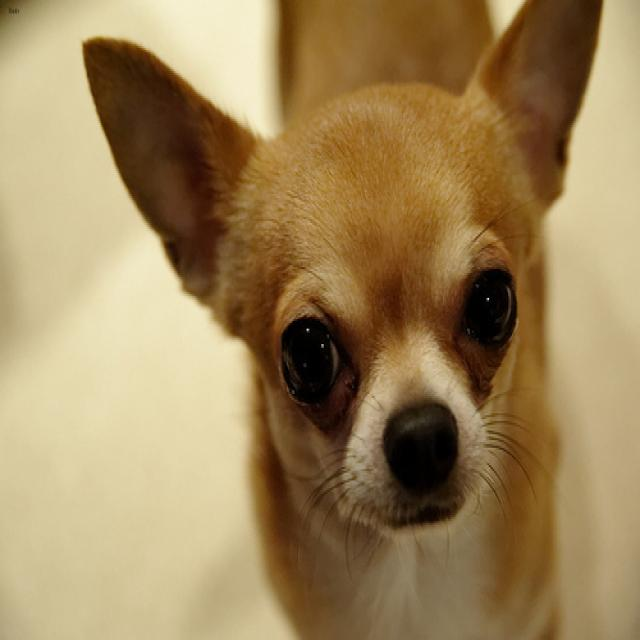dog-chihuahua: (70, 2, 614, 636)
